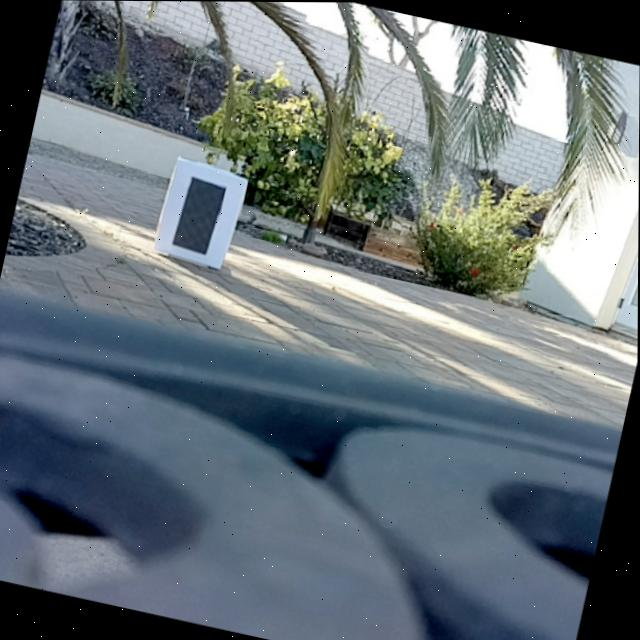led: (171, 172, 229, 258)
